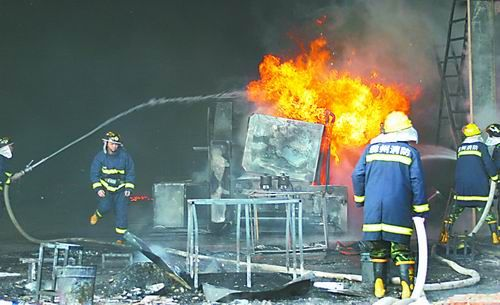fire: (248, 30, 411, 144)
